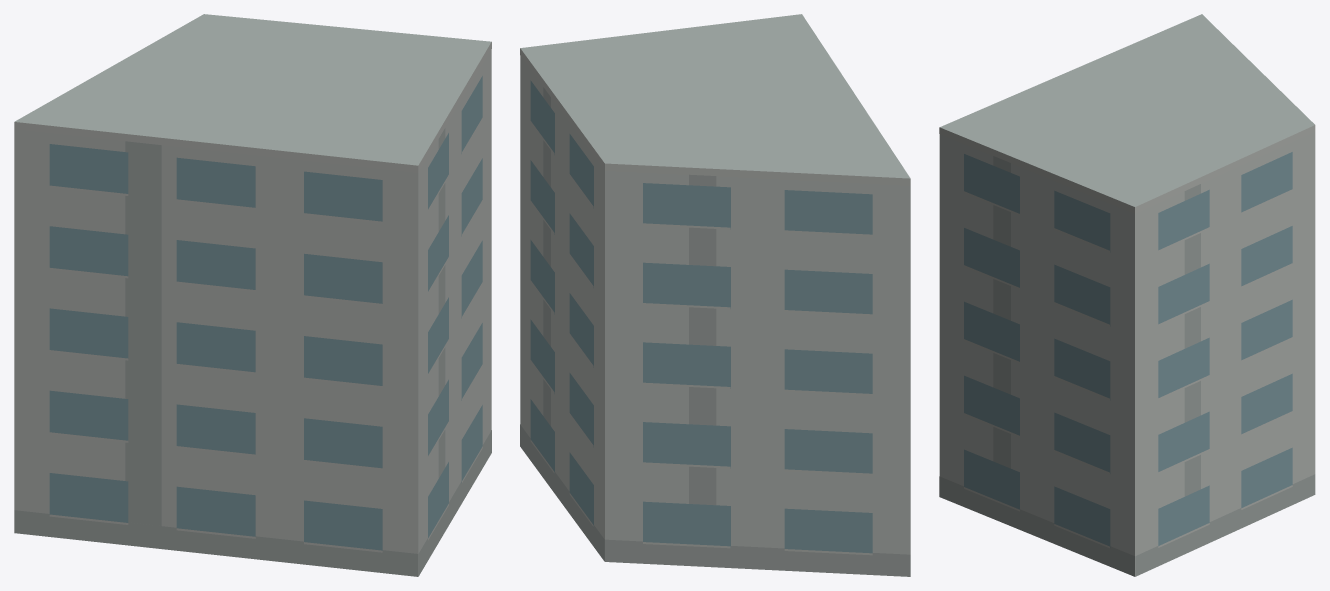
File: survey-upis-32562118.glb
The picture shows the model from 3 angles, left to right: view 1: azimuth 30°, elevation 25°; view 2: azimuth 150°, elevation 25°; view 3: azimuth 270°, elevation 25°; orthographic projection. The views are drawn at different scales.
Parts seen in each view (by area): view 1: survey-upis-32562118.tmp; view 2: survey-upis-32562118.tmp; view 3: survey-upis-32562118.tmp.
Part boxes in pixels (x1,y1,x2,y2): survey-upis-32562118.tmp: (14,14,491,576); survey-upis-32562118.tmp: (520,14,910,576); survey-upis-32562118.tmp: (939,14,1315,576).
Bounding box in the file's own units: 15.25 × 13.6 × 12.54.
